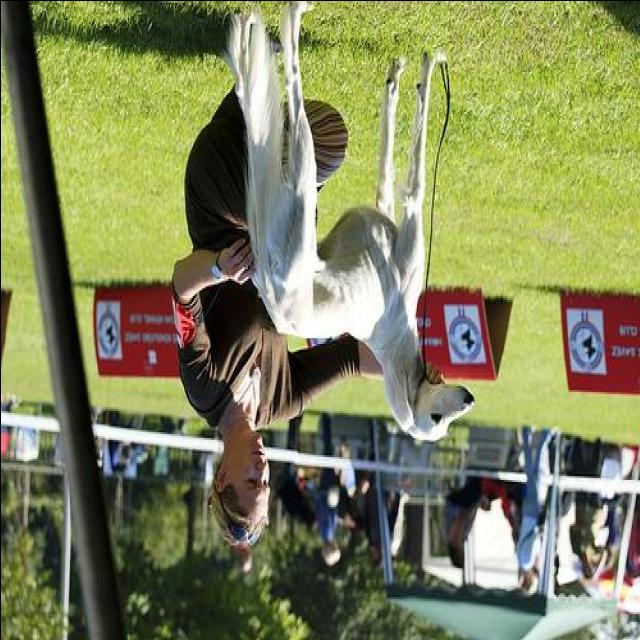saluki: (225, 4, 478, 444)
